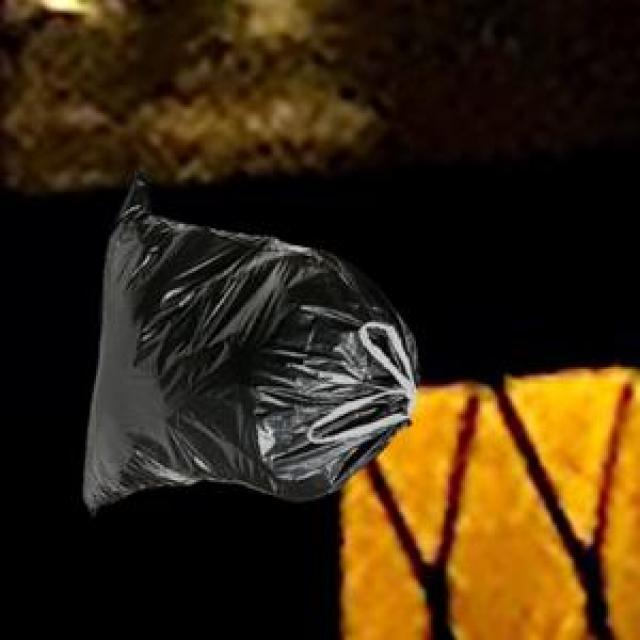waste: (84, 180, 418, 511)
